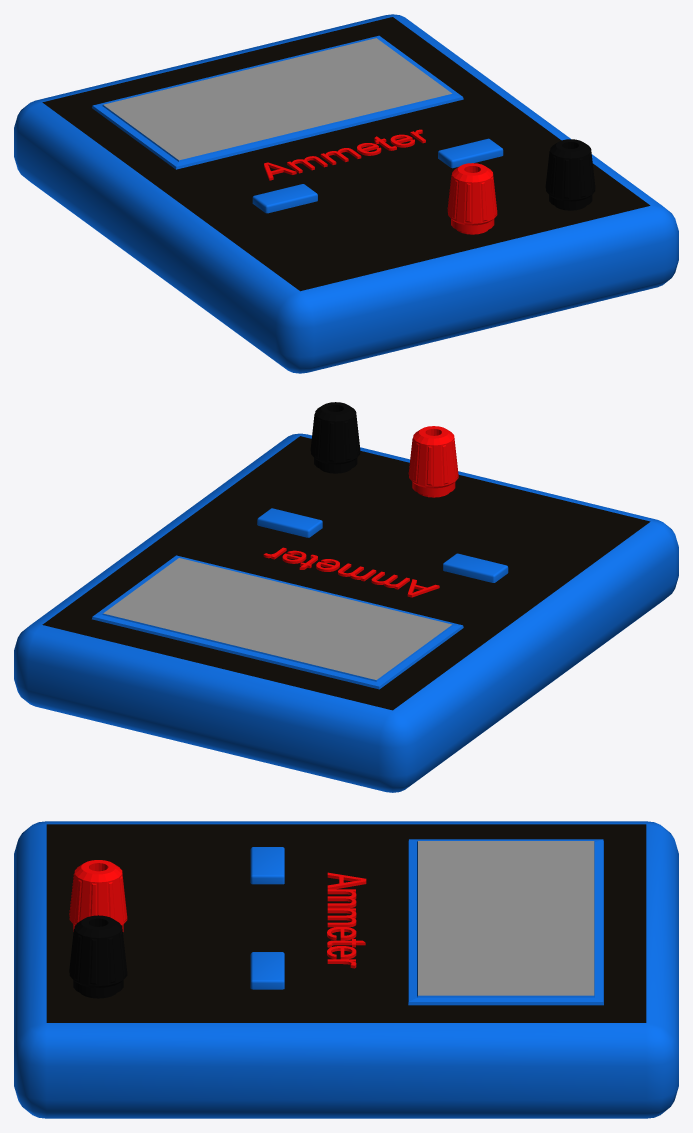
File: ammetr.FBX
3 renders of one model, top to bottom at view 1: azimuth 30°, elevation 25°; view 2: azimuth 150°, elevation 25°; view 3: azimuth 270°, elevation 25°, orthographic. The views are drawn at different scales.
Visible parts, largest first — view 1: ChamferBox002, Object003, Object006, Cylinder009, Cylinder010, Text001; view 2: ChamferBox002, Object003, Object006, Cylinder009, Cylinder010, Text001; view 3: ChamferBox002, Object003, Object006, Cylinder010, Cylinder009, Text001.
Boxes of the visible parts, x1,y1,x2,y2 form: ChamferBox002: (14, 14, 678, 373); Object003: (42, 17, 650, 291); Object006: (103, 38, 451, 160); Cylinder009: (447, 163, 497, 234); Cylinder010: (545, 139, 595, 210); Text001: (264, 129, 425, 180); ChamferBox002: (14, 433, 678, 792); Object003: (42, 436, 650, 710); Object006: (103, 558, 451, 679); Cylinder009: (408, 426, 458, 497); Cylinder010: (310, 402, 360, 473); Text001: (263, 547, 439, 597); ChamferBox002: (14, 821, 678, 1118); Object003: (46, 824, 646, 1022); Object006: (418, 841, 594, 995); Cylinder010: (69, 915, 127, 998); Cylinder009: (69, 860, 127, 931); Text001: (327, 872, 366, 968).
Bounding box in the file's own units: 3662 × 1208 × 4545.
